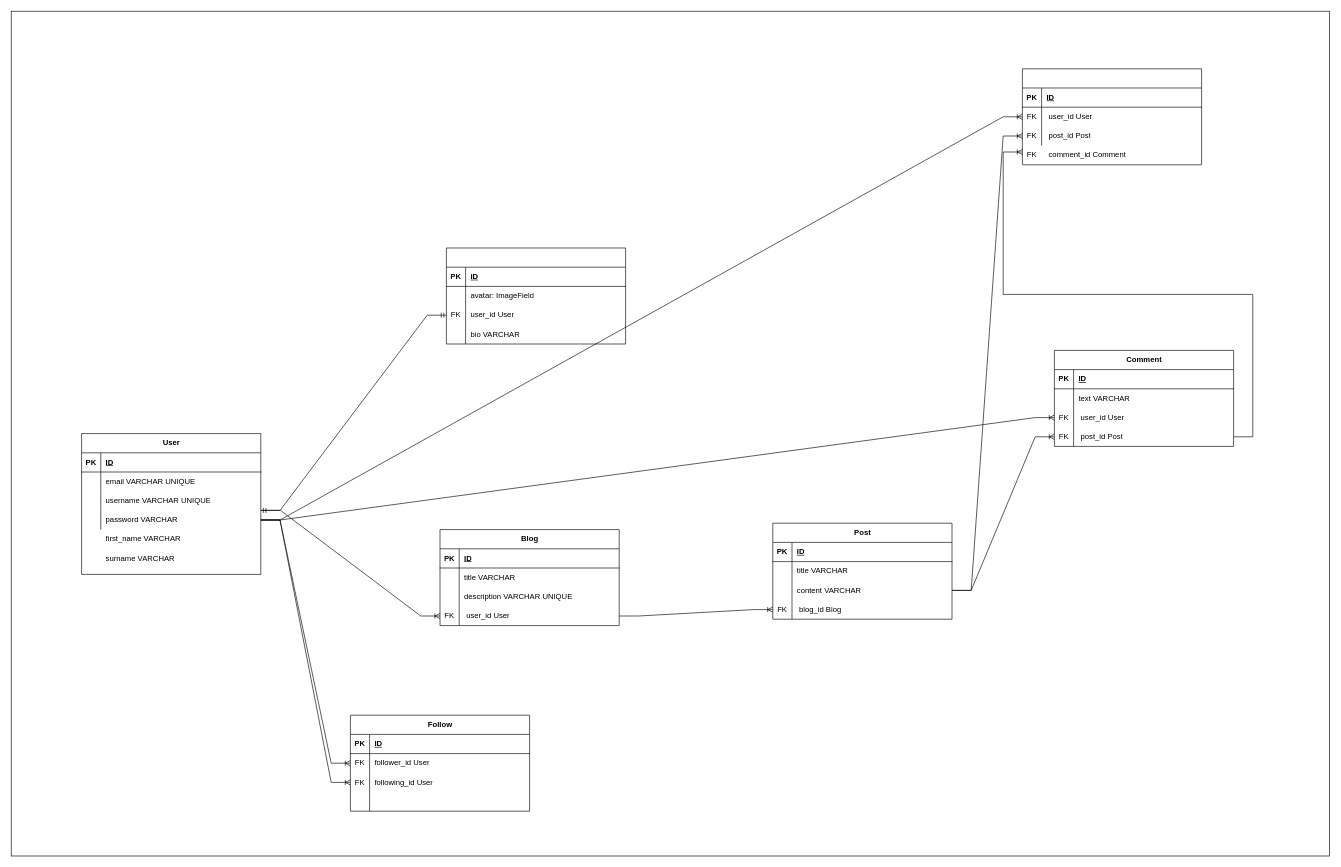
Some shapes in this 1341 by 867 pixel diagram are drawn without their labels. Each missing label, with the box of its shape:
Like: (1022, 68, 1202, 165)
Profile: (446, 247, 626, 344)
